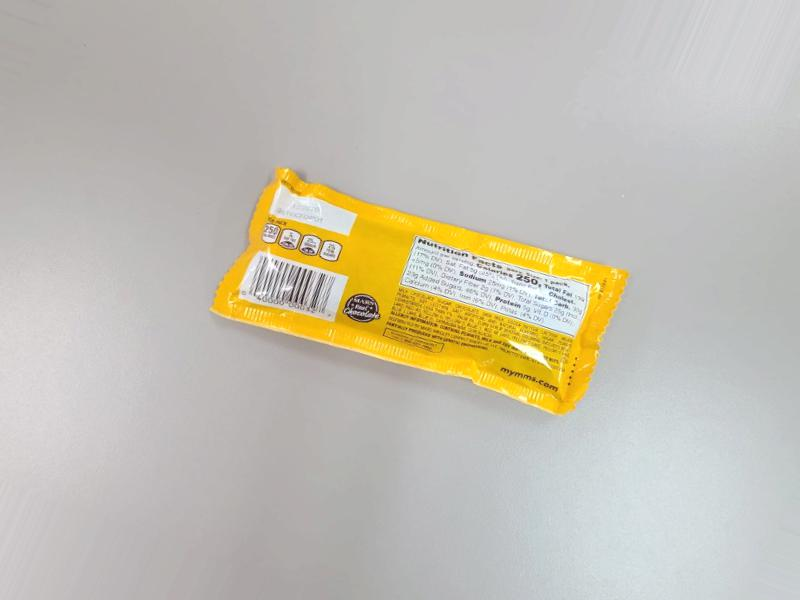m&m: (210, 161, 666, 418)
